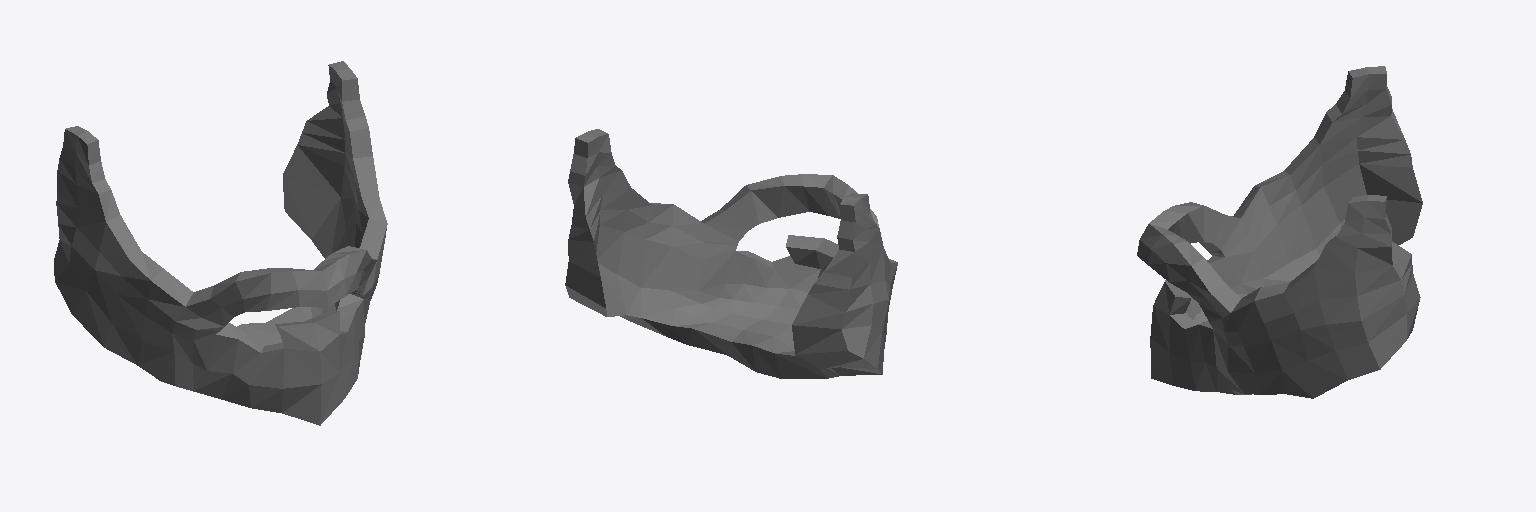
Rendered from LowPoly_Aristocrata_Barba.obj.
3 views of the same model, side by side, from view 1: azimuth 30°, elevation 25°; view 2: azimuth 150°, elevation 25°; view 3: azimuth 270°, elevation 25° (orthographic).
Visible parts, largest first — view 1: LowPoly_Aristocrata_Barba; view 2: LowPoly_Aristocrata_Barba; view 3: LowPoly_Aristocrata_Barba.
Part boxes in pixels (x1,y1,x2,y2): LowPoly_Aristocrata_Barba: (54,61,387,425); LowPoly_Aristocrata_Barba: (565,129,897,378); LowPoly_Aristocrata_Barba: (1137,66,1422,398).
Bounding box in the file's own units: 16.1 × 12.7 × 13.45.